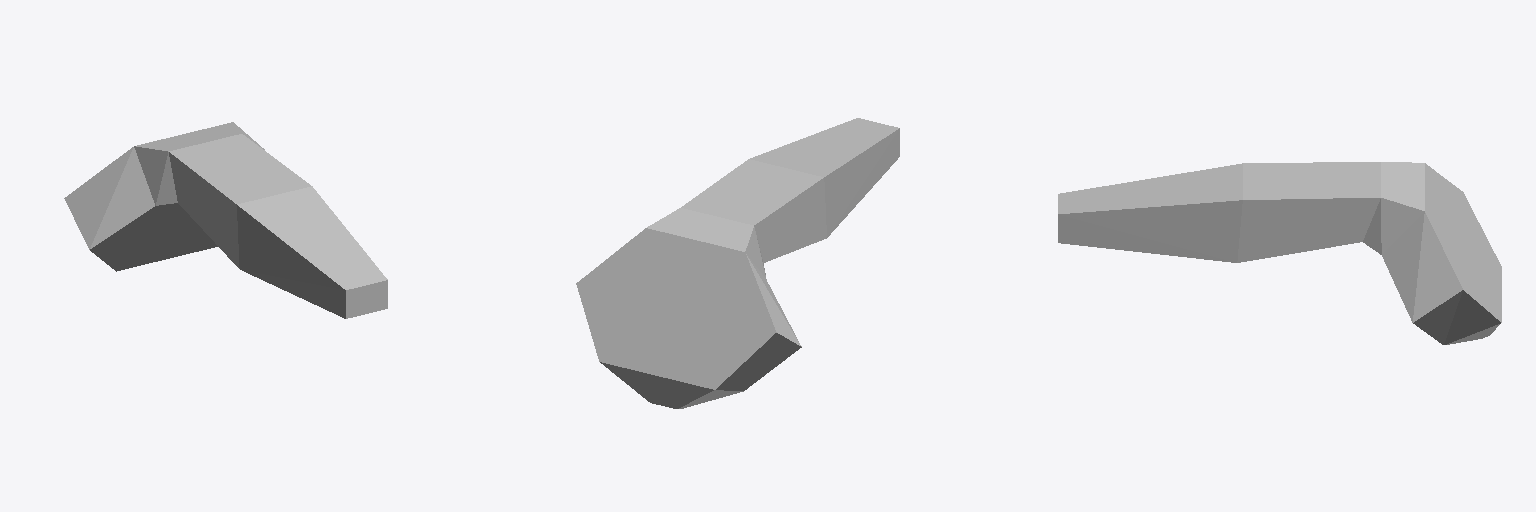
Rendered from VRController.obj.
3 views of the same model, side by side, from view 1: azimuth 30°, elevation 25°; view 2: azimuth 150°, elevation 25°; view 3: azimuth 270°, elevation 25° (orthographic).
Visible parts, largest first — view 1: Cube; view 2: Cube; view 3: Cube.
Part boxes in pixels (x1,y1,x2,y2): Cube: (64, 122, 387, 318); Cube: (576, 118, 899, 408); Cube: (1058, 162, 1501, 344).
Bounding box in the file's own units: 0.1138 × 0.0829 × 0.218.